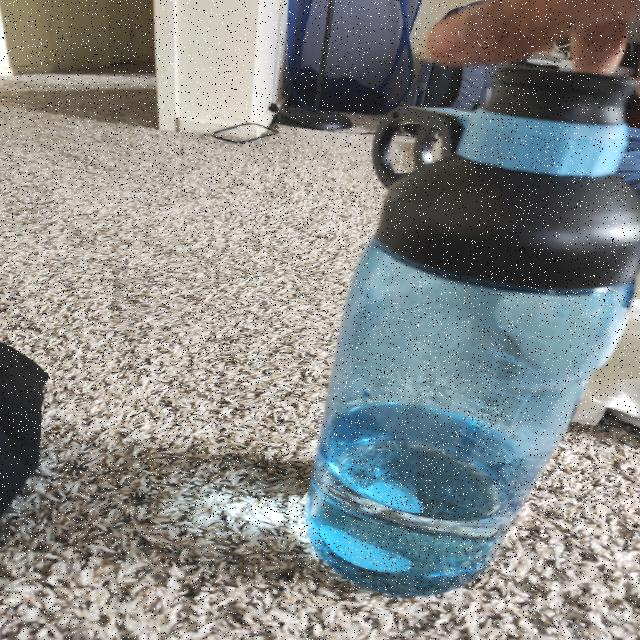bottle: (308, 73, 640, 586)
